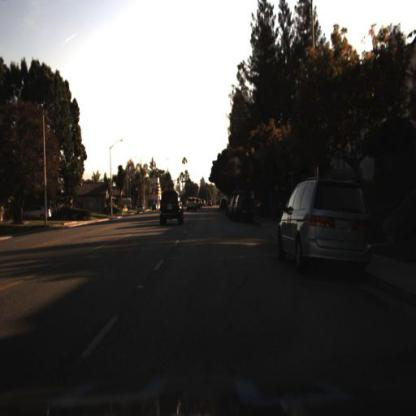car: (278, 174, 376, 276), (158, 185, 187, 226), (234, 193, 257, 223), (24, 202, 53, 225), (185, 194, 200, 213), (133, 203, 147, 217)
